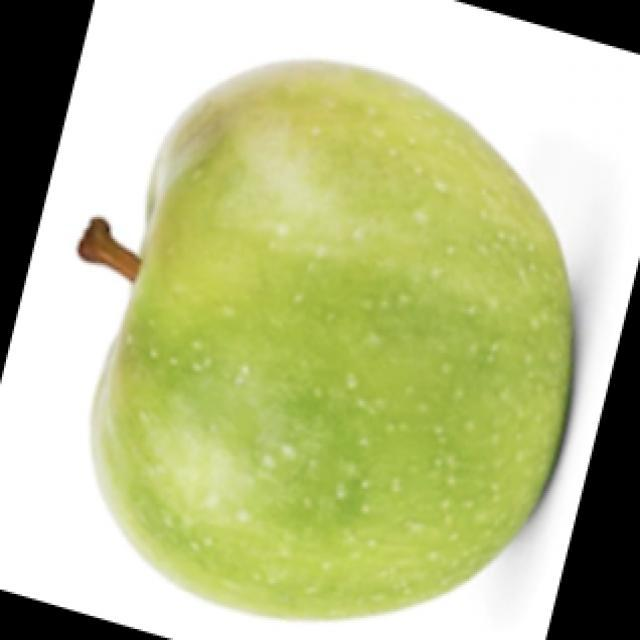Fresh Apple: (97, 62, 575, 610)
